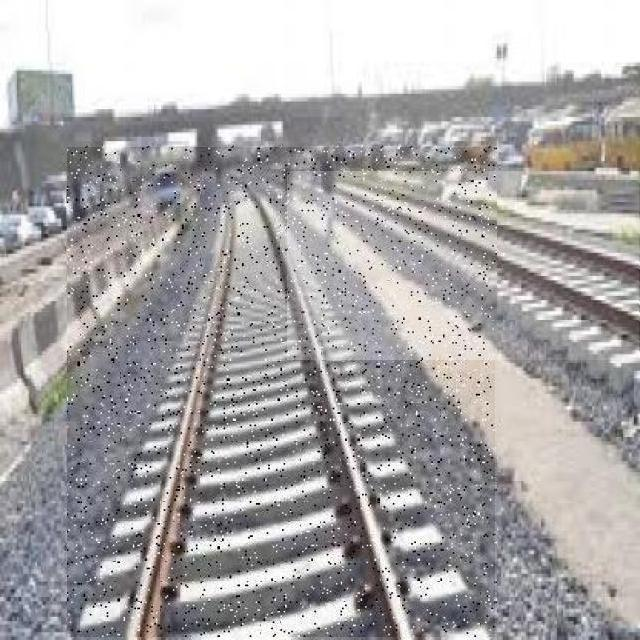rail: (69, 148, 496, 638), (288, 173, 640, 361)
